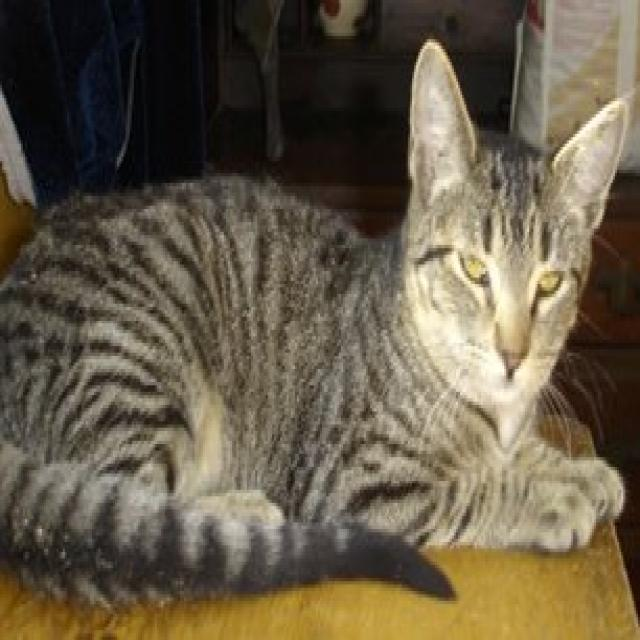Cats: (0, 36, 630, 611)
